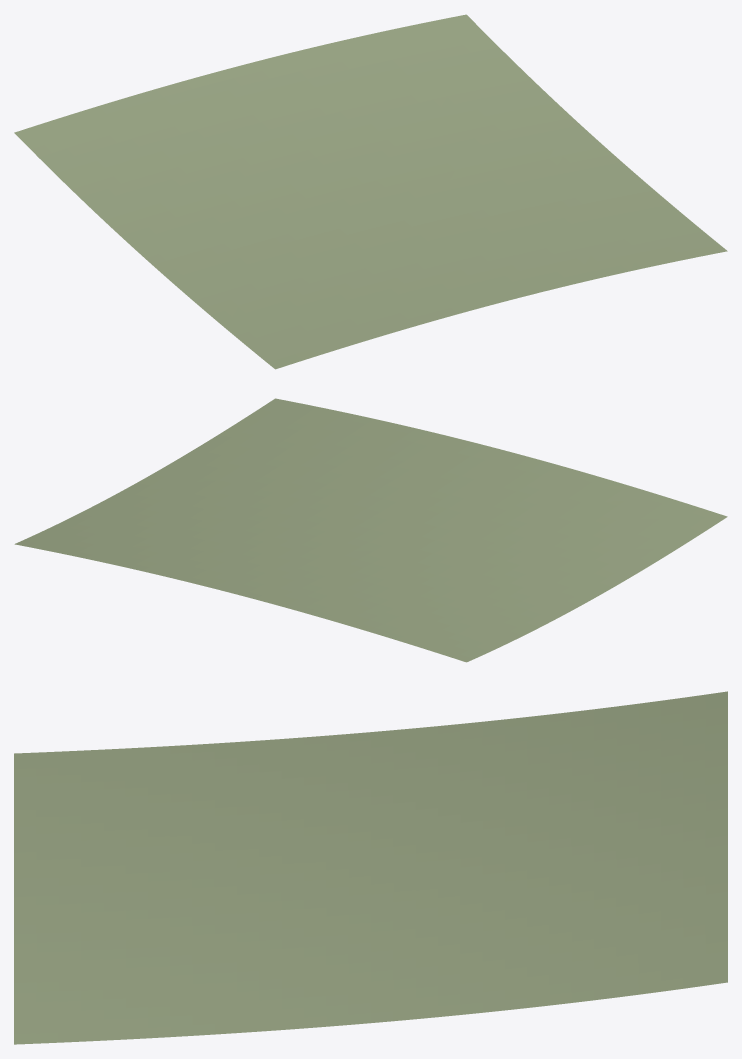
Rendered from valley-6-3.glb.
3 renders of one model, top to bottom at view 1: azimuth 30°, elevation 25°; view 2: azimuth 150°, elevation 25°; view 3: azimuth 270°, elevation 25°, orthographic. The views are drawn at different scales.
Parts seen in each view (by area): view 1: valley-6-3; view 2: valley-6-3; view 3: valley-6-3.
Boxes of the visible parts, <box> form: valley-6-3: <box>14,14,727,369</box>; valley-6-3: <box>14,398,727,662</box>; valley-6-3: <box>14,691,727,1044</box>.
Bounding box in the file's own units: 256 × 31.27 × 256.
